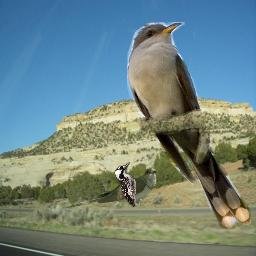Cuckoo: (127, 22, 251, 229), (63, 167, 157, 210)
Woodpecker: (114, 162, 136, 207)
